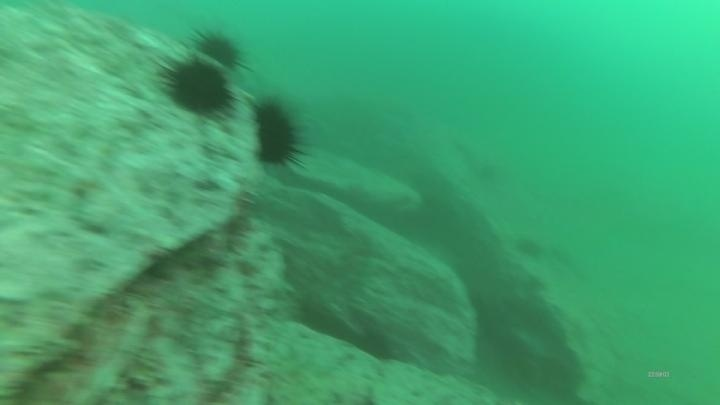echinus: (157, 52, 238, 121), (248, 94, 311, 173), (190, 27, 247, 72)
